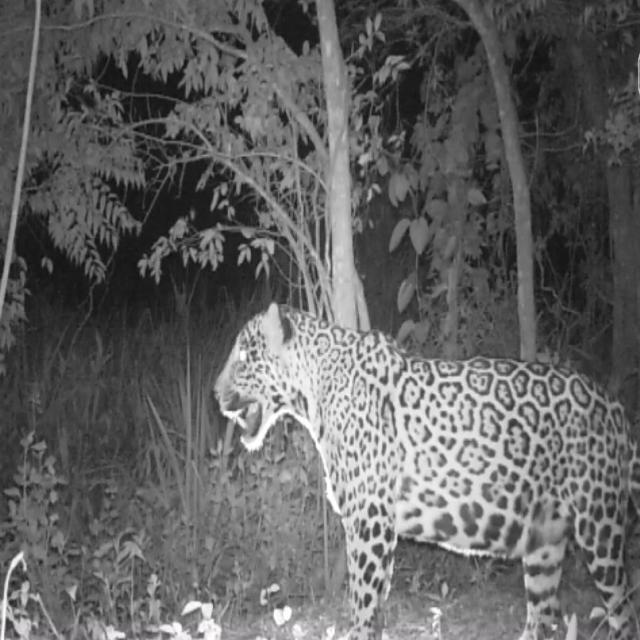Jaguar: (211, 300, 640, 640)
